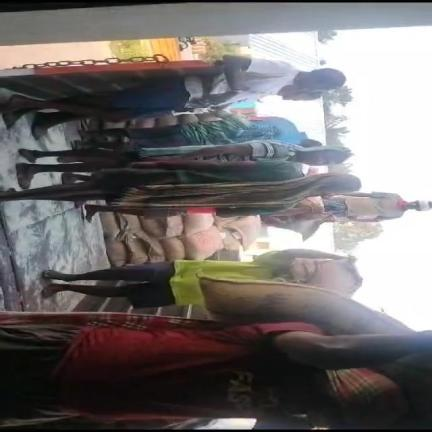Zone-Counting: (0, 276, 431, 430)
